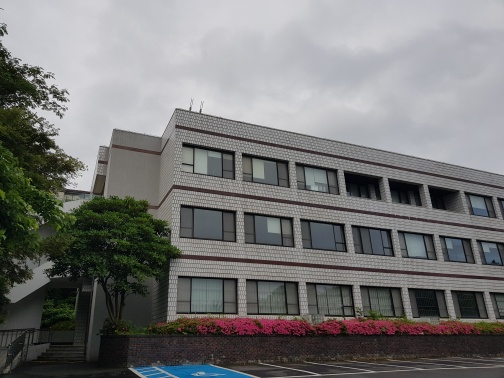Foreign Language Institute: (88, 88, 504, 355), (173, 193, 400, 270), (183, 138, 349, 203)
